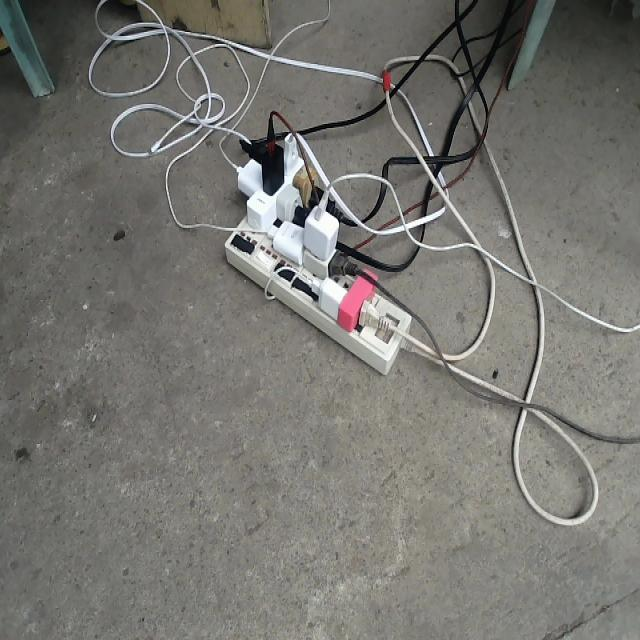-: (224, 117, 409, 372)
